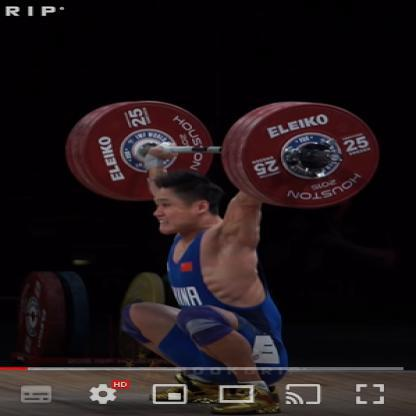Barbell: (324, 151, 346, 168)
